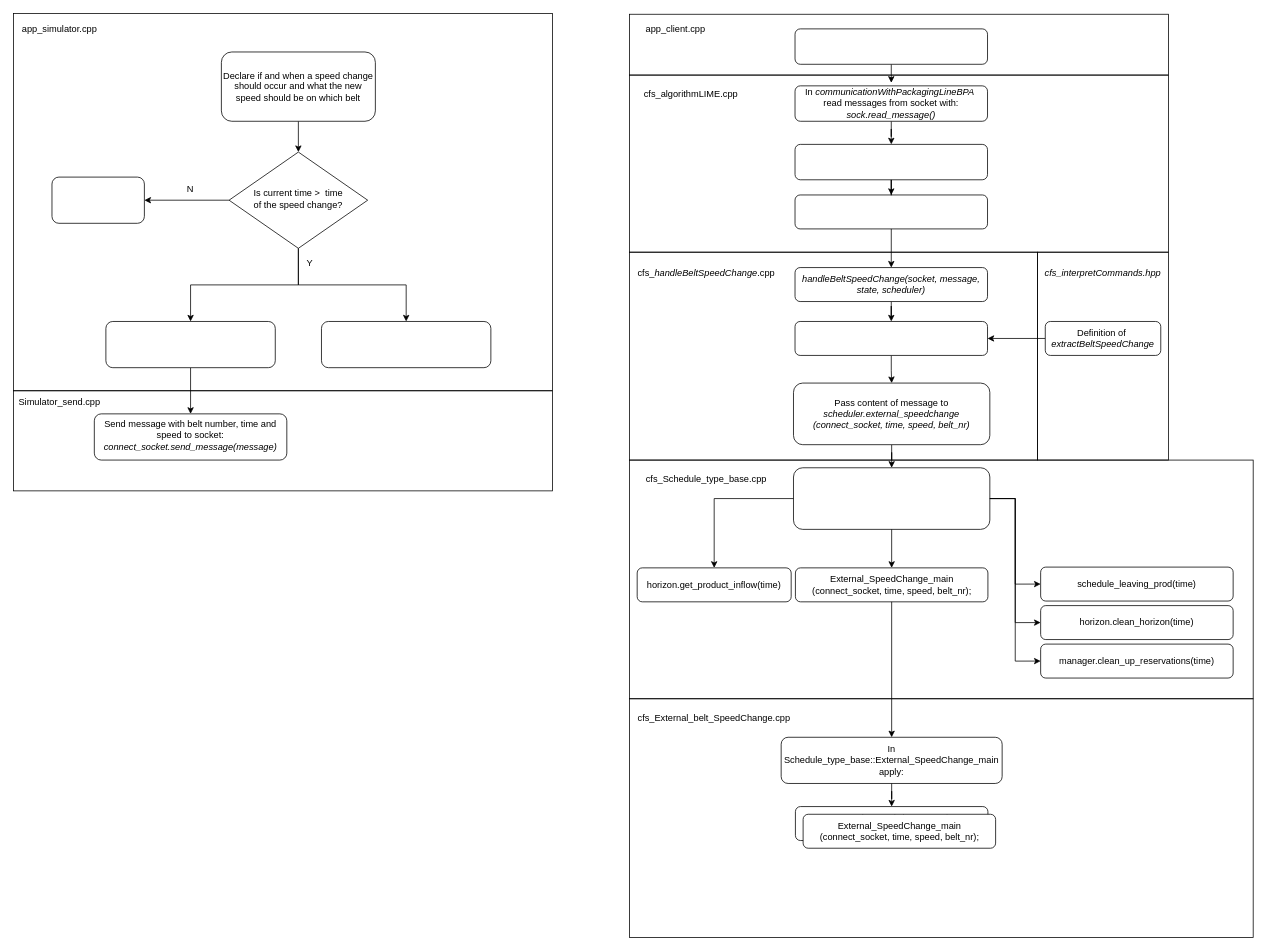
Some shapes in this 1267 by 951 pixel diagram are drawn without their labels. Each missing label, with the centre of its shape:
AnnounceEnableBeltSpeedChange: (190,344)
communicationWithPackagingLineBPA: (891,46)
In Schedule_type_base::External_Speedchange apply:: (891,498)
No speed change: (97,199)
sendProcessParameterUpdate: (406,344)
Switch to case(COM_SPEED_CHANGE): (891,211)
Unpack message with: extractBeltSpeedChange(message);: (891,338)
With handle_message the message is delivered to the right function.: (891,162)
